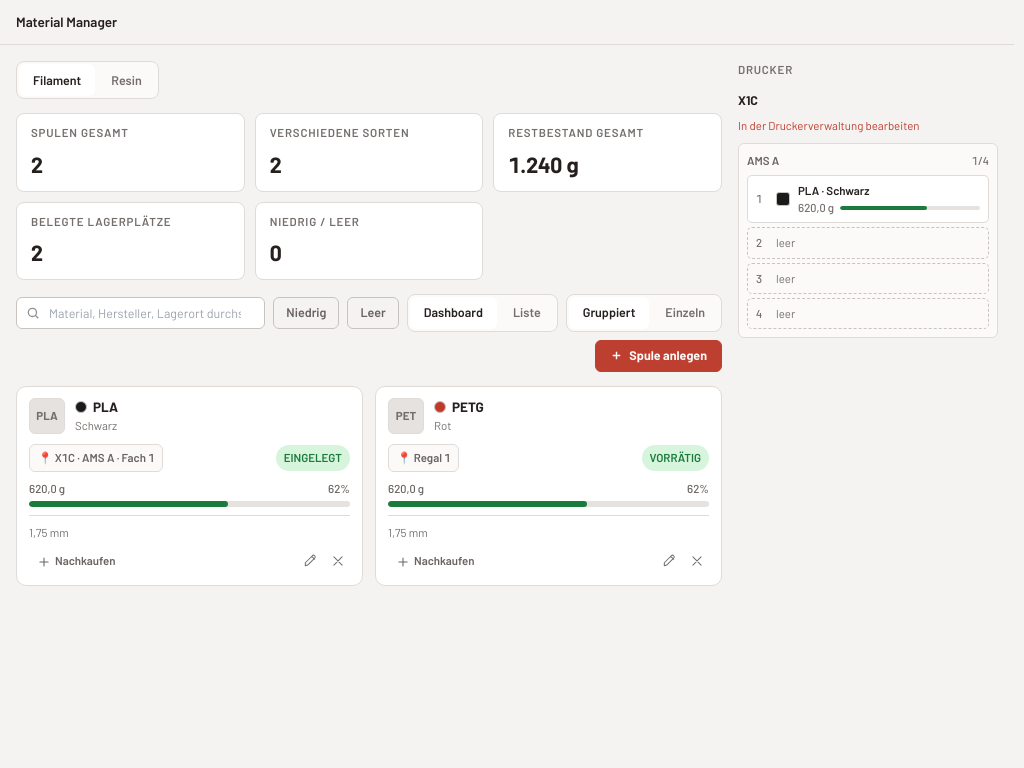
Test: FilamentView with printers › unloads through the slot menu and shows where the spool went
The image size is (1024, 768).
What coordinates should you click on to do the following:
click the button with test id "slot-u1-0"
I would click on:
 (868, 199)
Its box is [747,175,989,223].
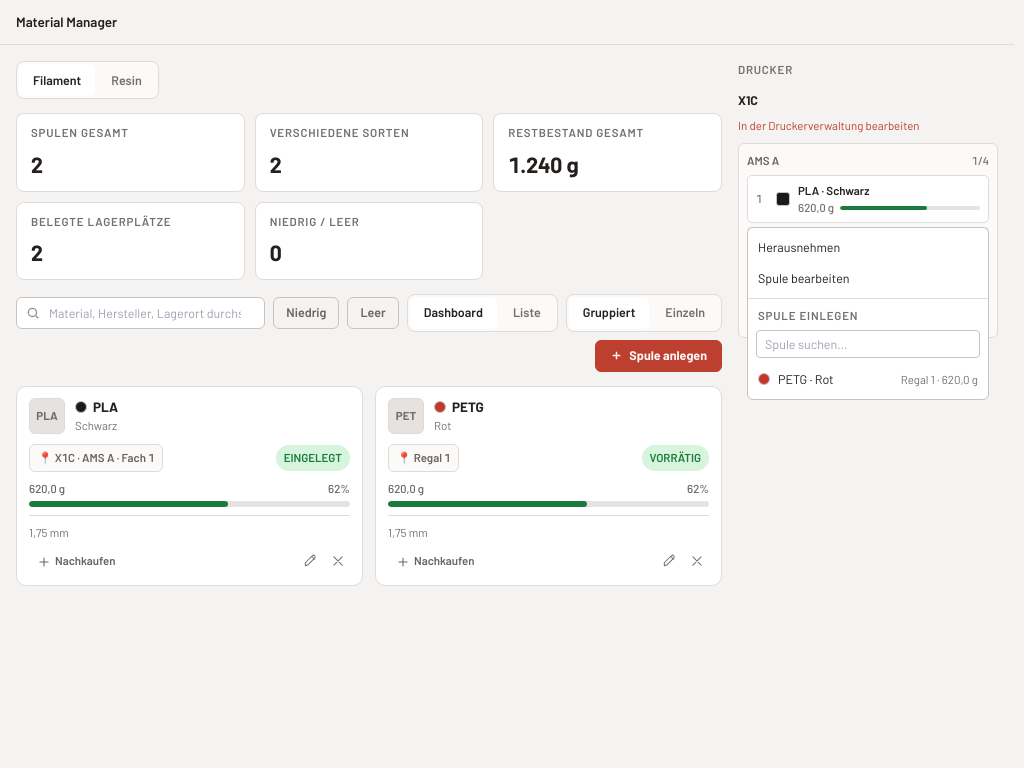
What coordinates should you click on to do the following:
click the button "Herausnehmen"
I would click on:
 (868, 248)
Its box is [748,232,988,263].
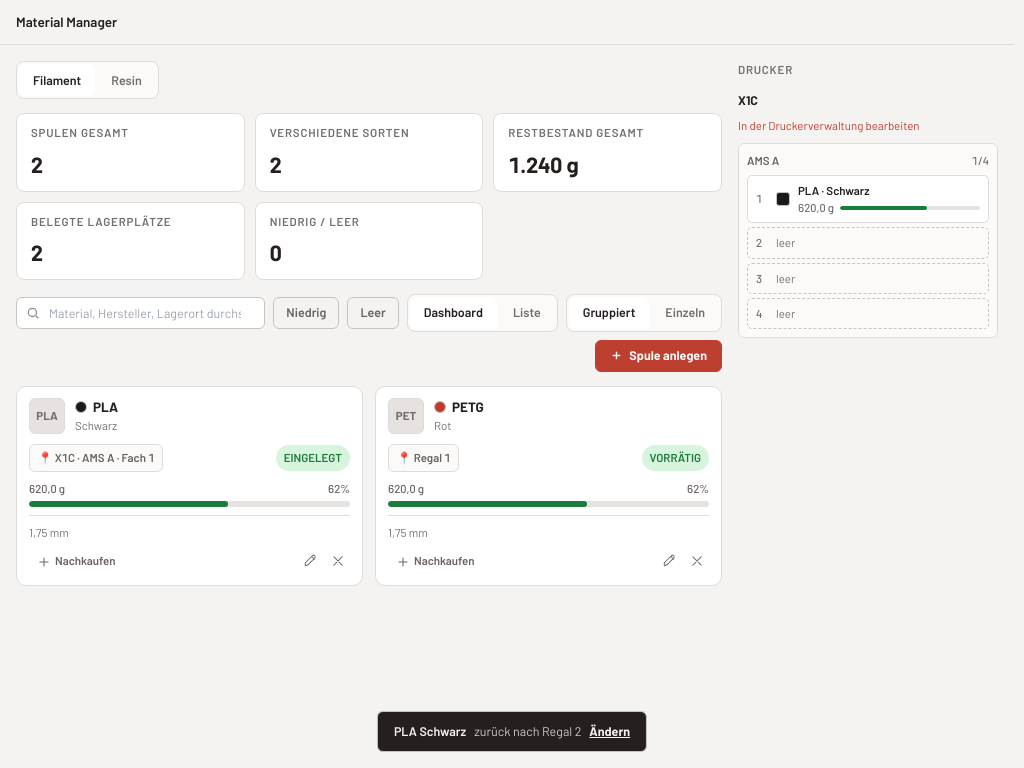
Now the message shows "zurück nach Regal 2", box [474,723,581,739]
